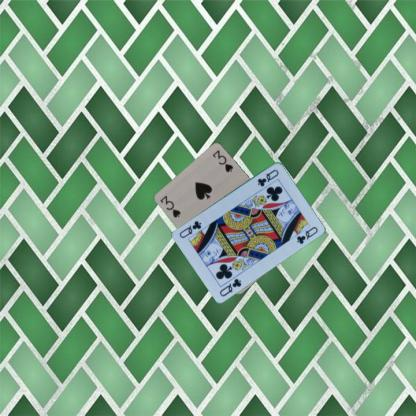3s: (158, 193, 182, 219)
Qc: (217, 276, 243, 298), (255, 166, 280, 188)
